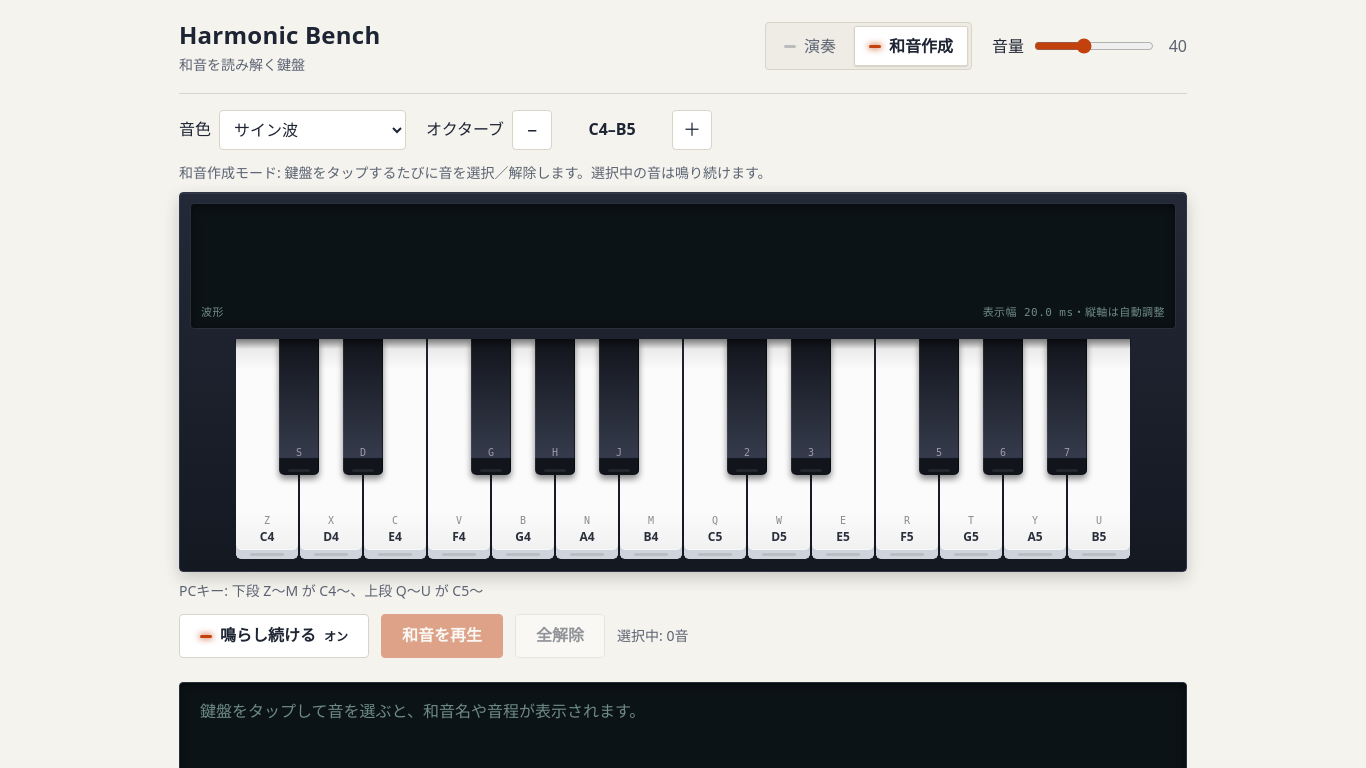
Scenario: App: 和音作成モード（初期モード） › オクターブを切り替えても選択は保持され、範囲は C2〜B6 に制限される
The width and height of the screenshot is (1366, 768).
Click the button "Z C4" at coordinates (267, 449), box [235,339,299,559]
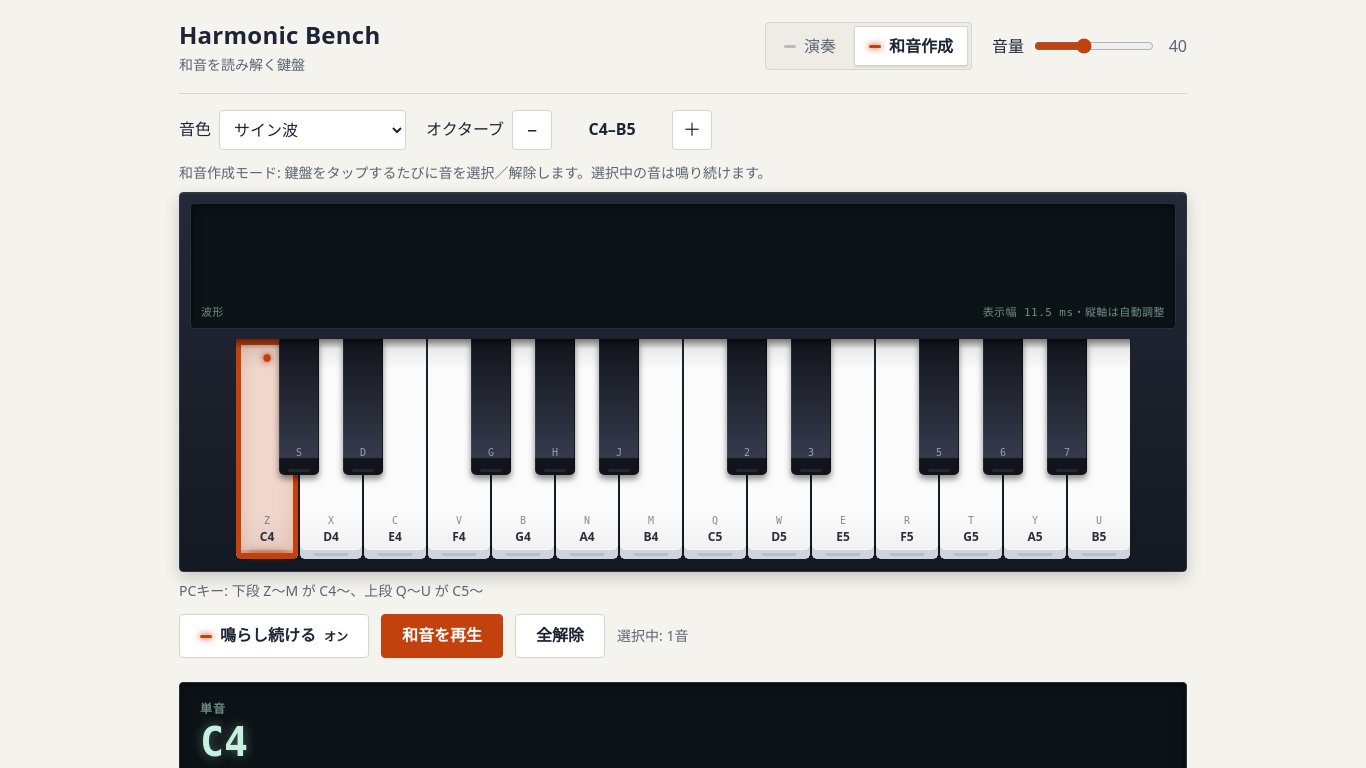
Click the button named "1オクターブ上げる" at coordinates (692, 130), box [672,110,712,150]
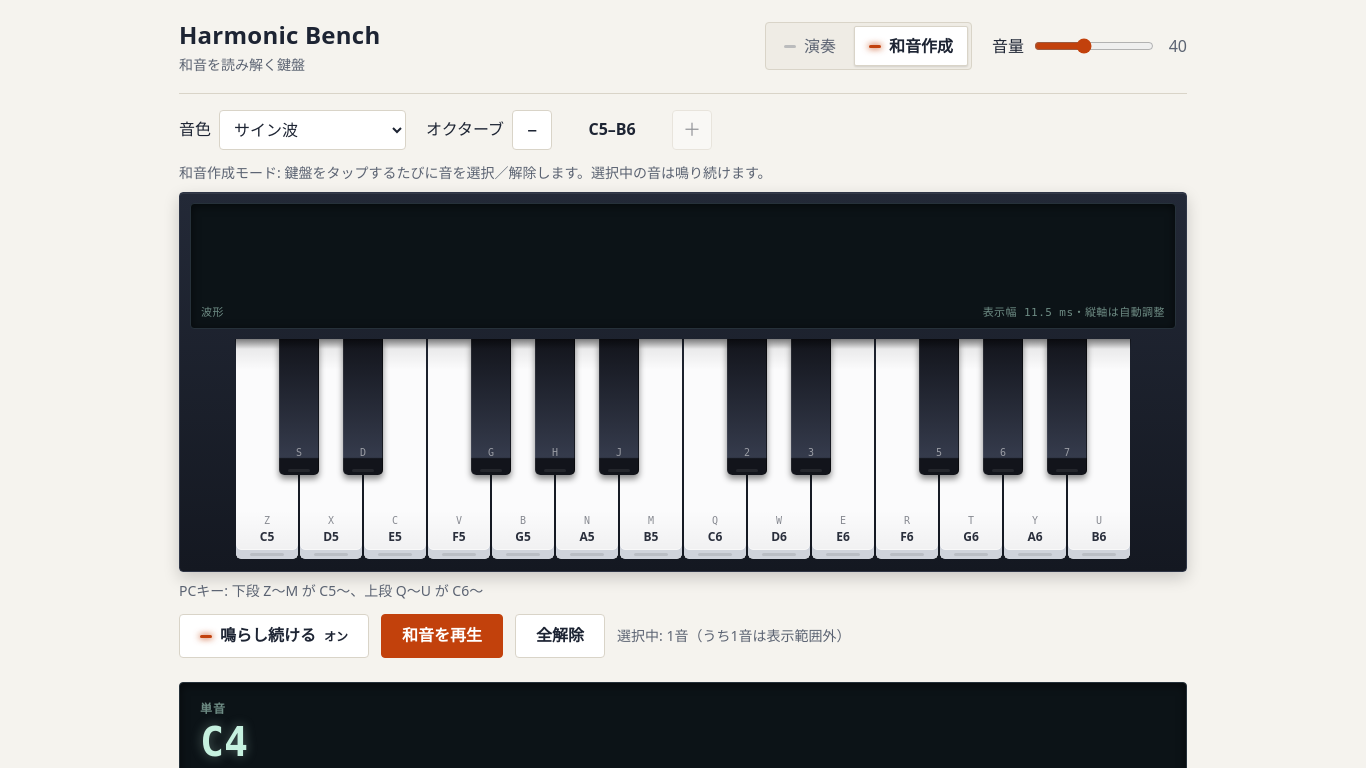
Expected: the text "C5–B6" is shown, [588,118,636,140]
Expected: the button named "1オクターブ上げる" is disabled, [672,110,712,150]
Expected: the text "選択中: 1音（うち1音は表示範囲外）" is shown, [617,625,850,647]
Click the button named "1オクターブ下げる" at coordinates (532, 130), box [512,110,552,150]
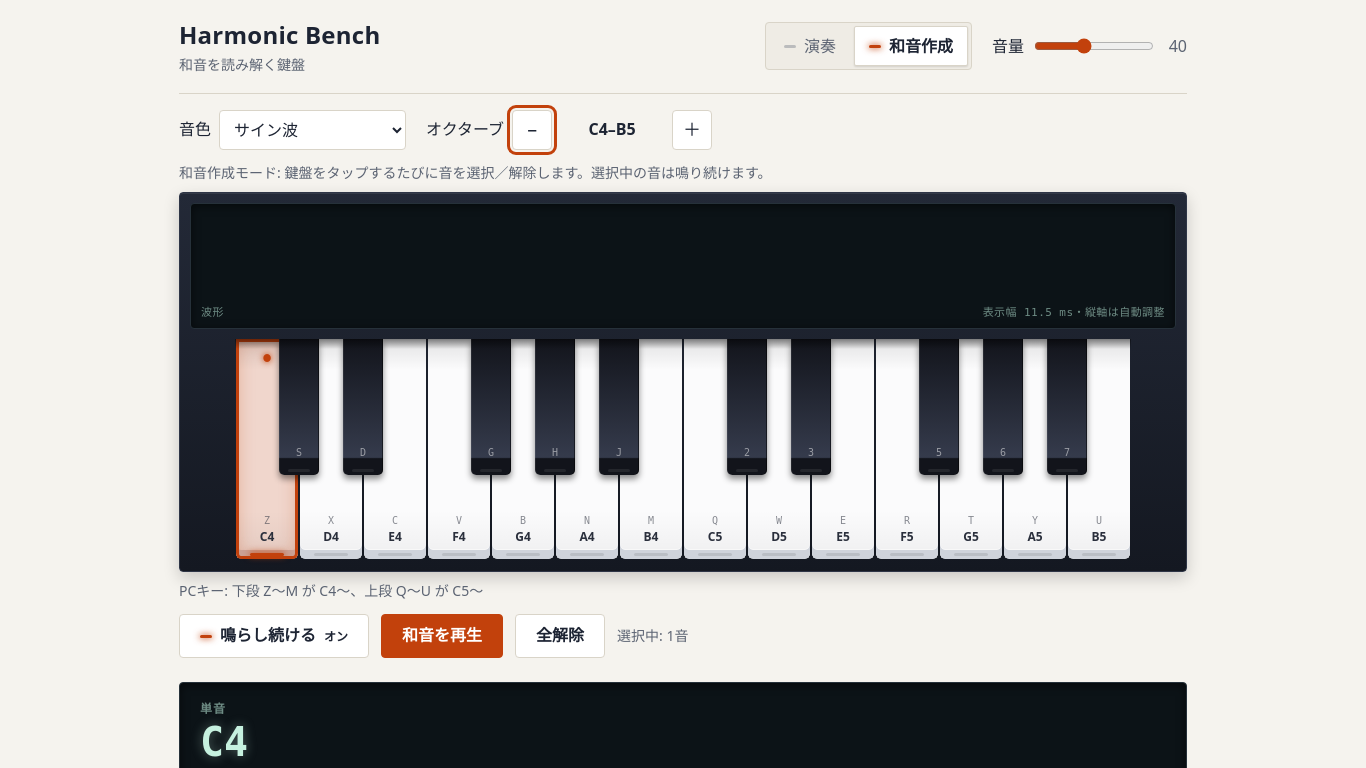
Click the button named "1オクターブ下げる" at coordinates (532, 130), box [512,110,552,150]
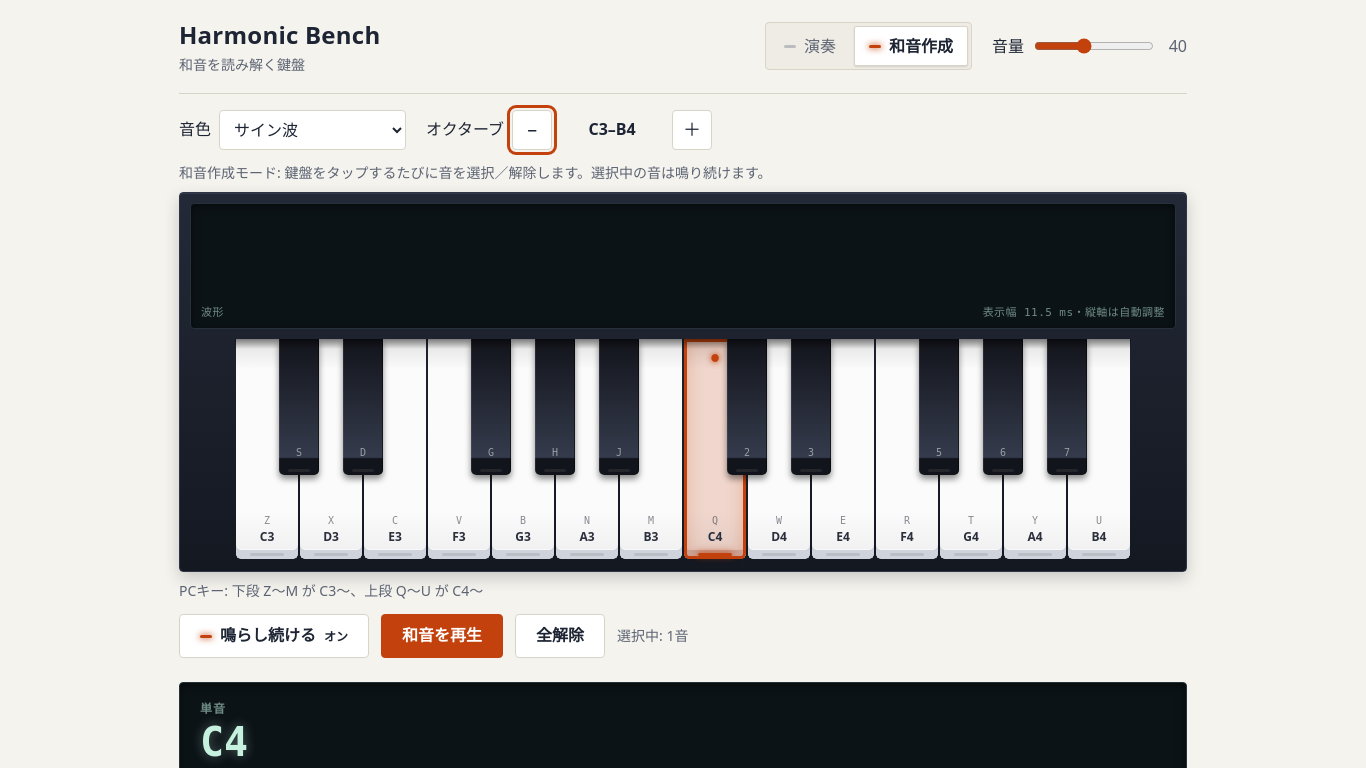
Click the button named "1オクターブ下げる" at coordinates (532, 130), box [512,110,552,150]
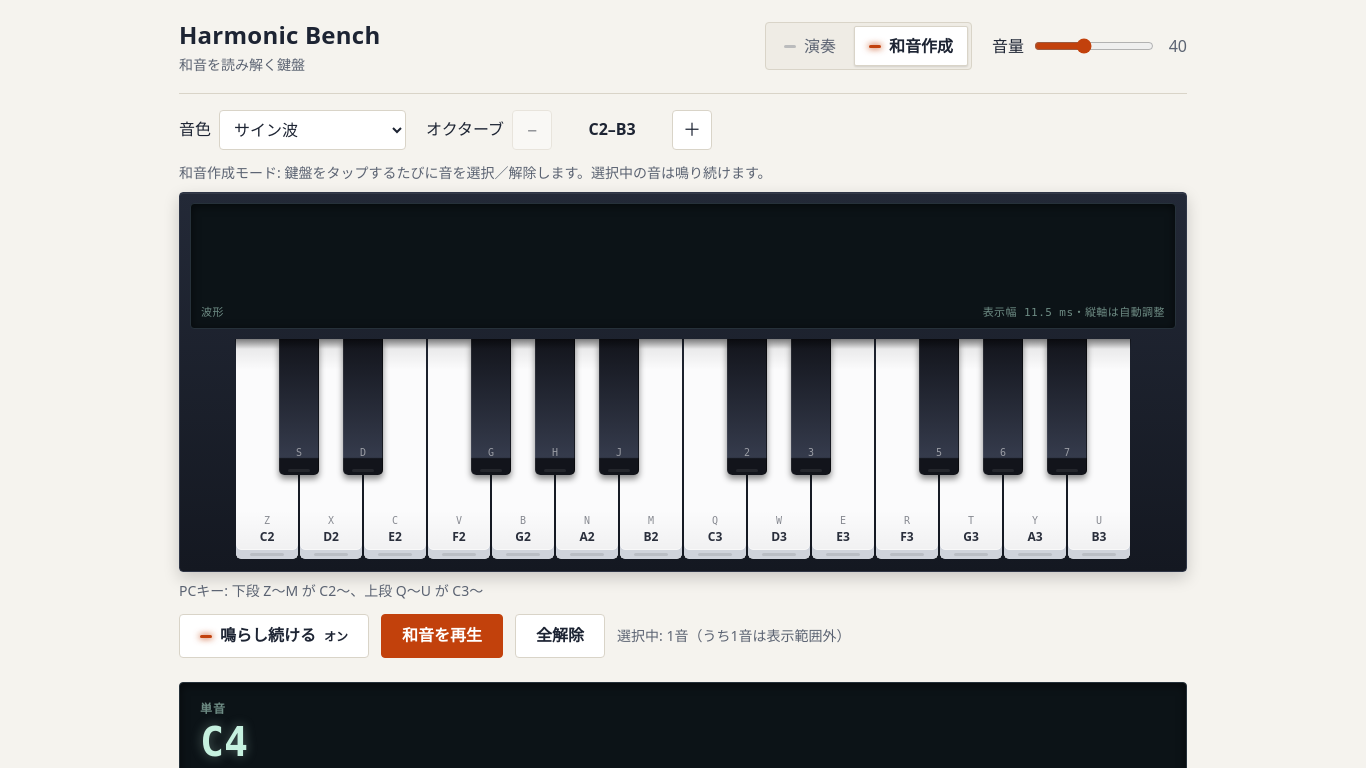
Expected: the text "C4" is shown, [200,718,248,766]
Expected: the text "C2–B3" is shown, [588,118,636,140]
